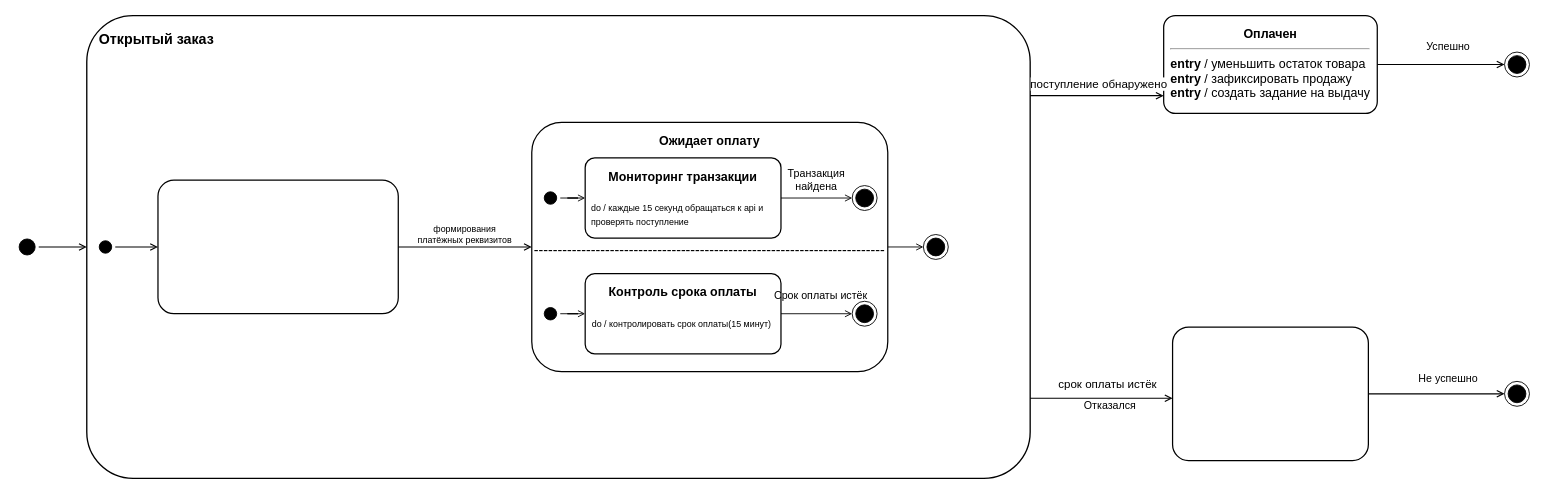
Some shapes in this 1545 by 495 pixel diagram are drawn without their labels. Each missing label, with the centre of its shape:
"Неудачно entry / освободить резерв entry / зафиксировать причину" belongs at [1270,393].
"Создание заказа entry / зарезервировать товар do / зафиксировать статус товара" belongs at [277,246].
